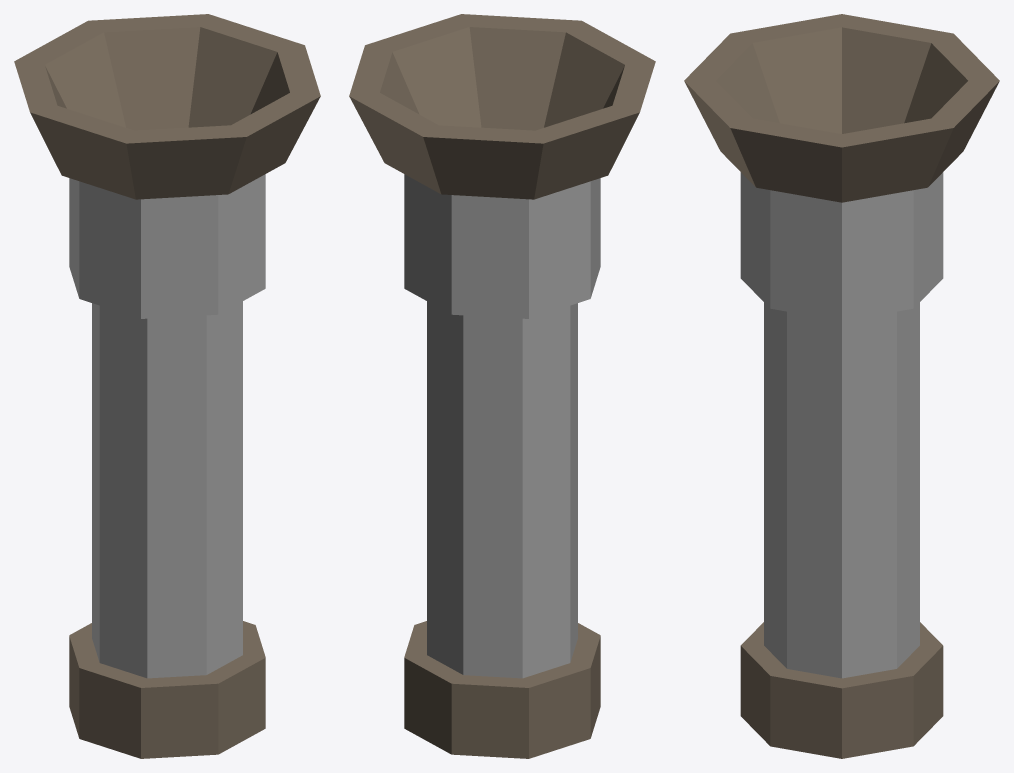
File: steampunk_chimney.fbx
The picture shows the model from 3 angles, left to right: view 1: azimuth 30°, elevation 25°; view 2: azimuth 150°, elevation 25°; view 3: azimuth 270°, elevation 25°; orthographic projection.
Parts seen in each view (by area): view 1: Cylinder.013; view 2: Cylinder.013; view 3: Cylinder.013.
Boxes of the visible parts, bbox=[...] form: Cylinder.013: bbox=[14, 14, 320, 758]; Cylinder.013: bbox=[349, 14, 655, 758]; Cylinder.013: bbox=[684, 14, 999, 758].
Size of the model in its own units: 1.01 by 2.25 by 1.01.
